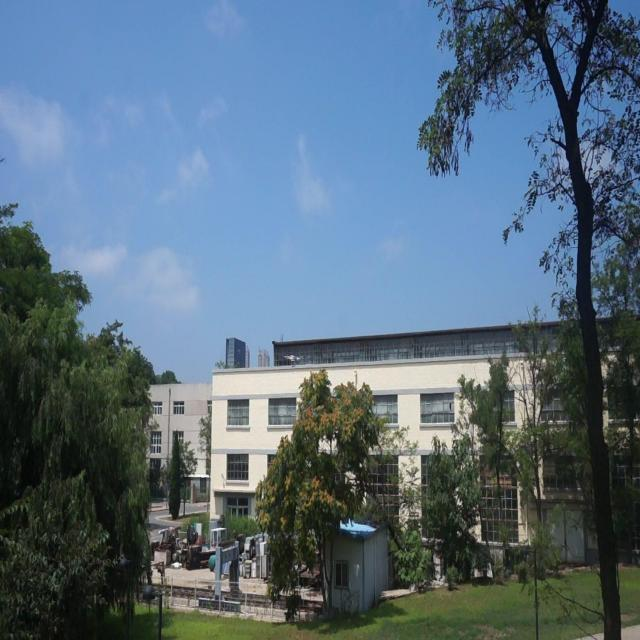UAV: (283, 354, 301, 367)
